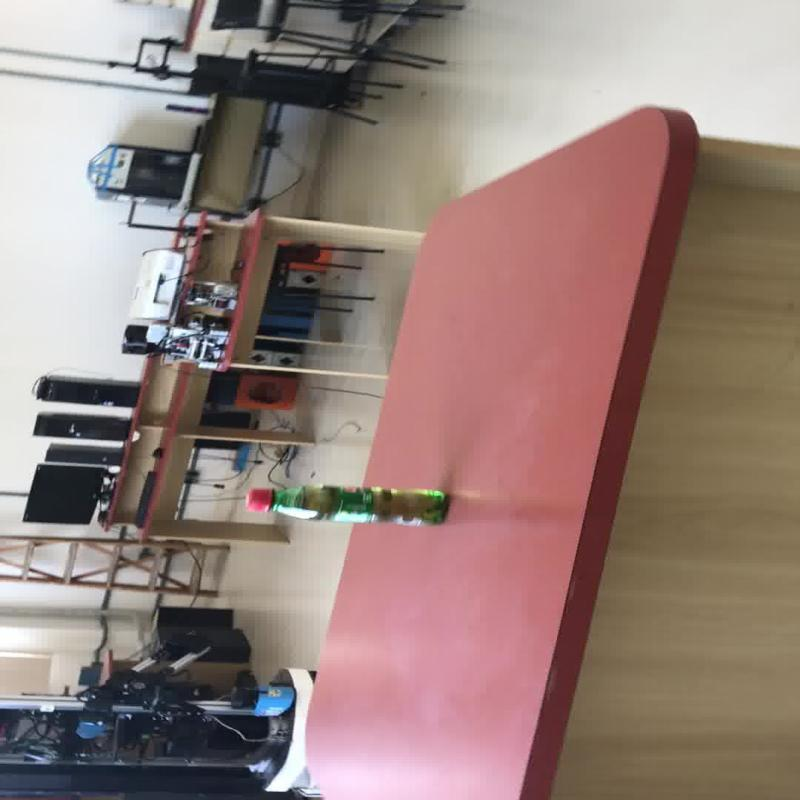guarana: (243, 482, 449, 526)
